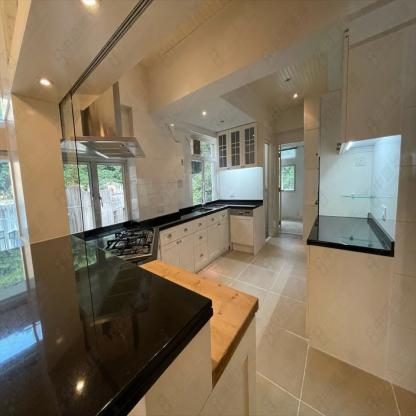Cupboard: (154, 208, 231, 273), (217, 121, 258, 170)
Exhaust Hood: (70, 81, 145, 158)
Stove: (103, 225, 157, 258)
